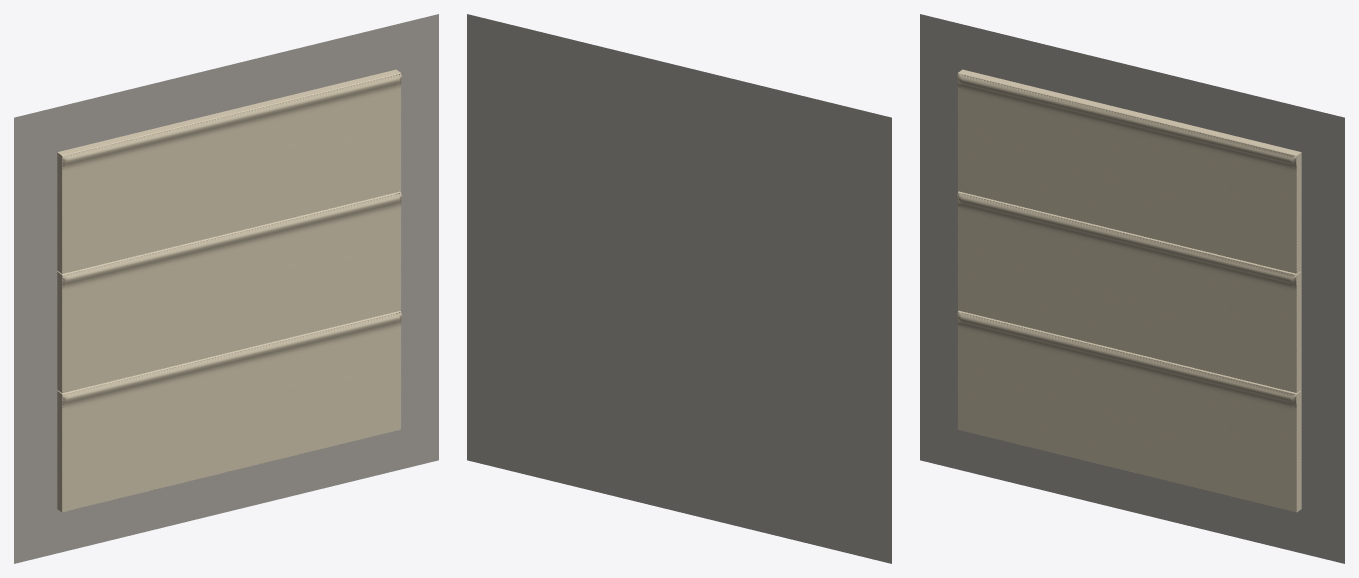
The model's file is terilgan.glb.
The picture shows the model from 3 angles, left to right: view 1: azimuth 30°, elevation 25°; view 2: azimuth 150°, elevation 25°; view 3: azimuth 330°, elevation 25°; orthographic projection.
Visible parts, largest first — view 1: Plane, t2_0, t1_0, t0_0; view 2: Plane; view 3: Plane, t2_0, t1_0, t0_0.
Boxes of the visible parts, x1=… form: Plane: x1=14, y1=14, x2=438, y2=563; t2_0: x1=57, y1=69, x2=402, y2=273; t1_0: x1=57, y1=191, x2=402, y2=392; t0_0: x1=57, y1=310, x2=402, y2=512; Plane: x1=467, y1=14, x2=891, y2=563; Plane: x1=920, y1=14, x2=1344, y2=563; t2_0: x1=956, y1=69, x2=1301, y2=273; t1_0: x1=956, y1=191, x2=1301, y2=392; t0_0: x1=956, y1=310, x2=1301, y2=512.
Bounding box in the file's own units: 1.5 × 1.51 × 0.0411.
